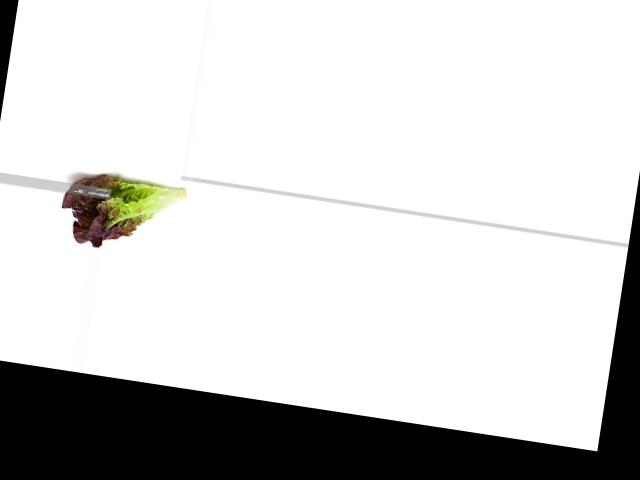lettuce: (54, 162, 193, 261)
